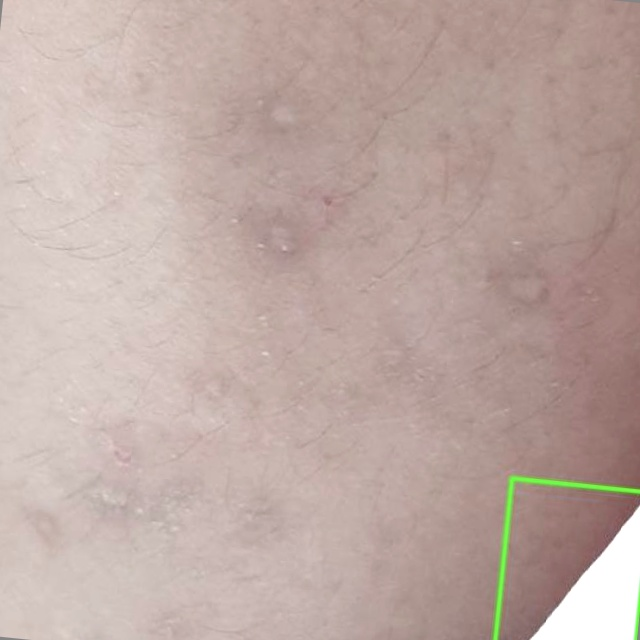Scabies: (495, 478, 639, 639)
